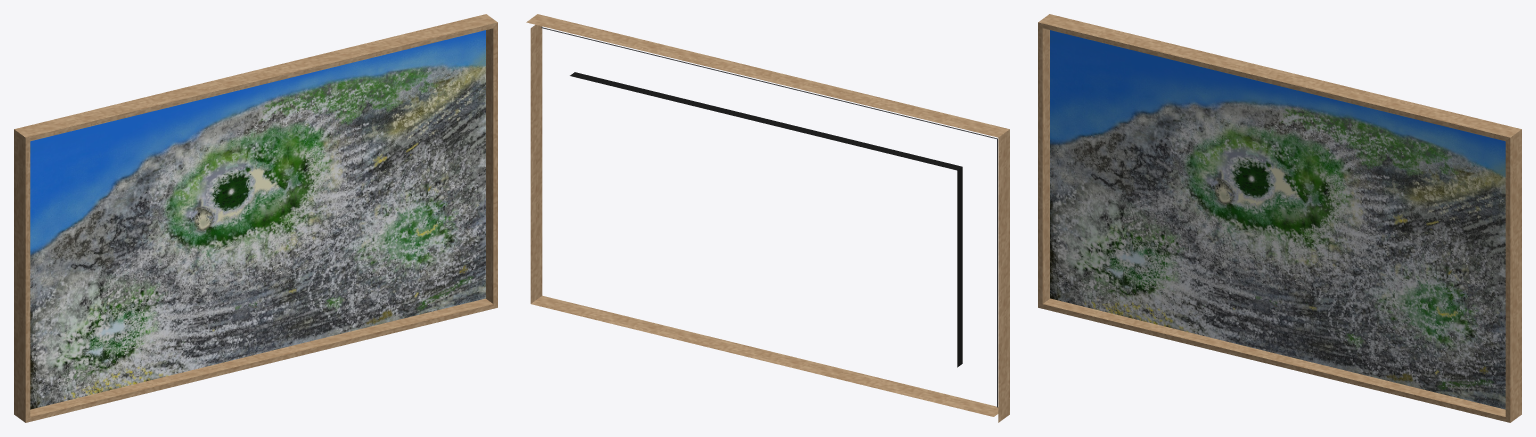
The model's file is hz066_moyen_caisse-chene.glb.
The picture shows the model from 3 angles, left to right: view 1: azimuth 30°, elevation 25°; view 2: azimuth 150°, elevation 25°; view 3: azimuth 330°, elevation 25°; orthographic projection.
Visible parts, largest first — view 1: hz066_moyen_caisse-chene; view 2: hz066_moyen_caisse-chene; view 3: hz066_moyen_caisse-chene.
Part boxes in pixels (bbox=[...]): hz066_moyen_caisse-chene: bbox=[14, 14, 497, 422]; hz066_moyen_caisse-chene: bbox=[526, 14, 1009, 422]; hz066_moyen_caisse-chene: bbox=[1038, 14, 1521, 422].
Bounding box in the file's own units: 0.828 × 0.478 × 0.035.
4 materials, 2 textured.
